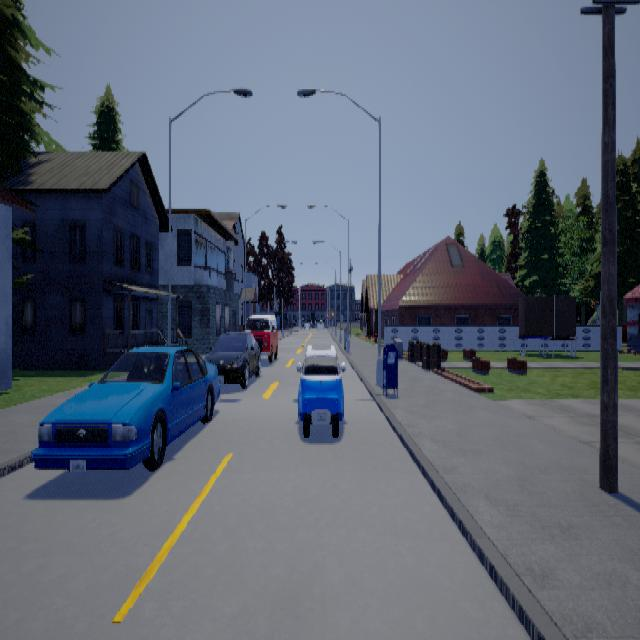traffic_light: (589, 315, 591, 318)
vehicle: (33, 338, 219, 475), (295, 344, 345, 436), (204, 327, 261, 389), (244, 310, 277, 360)
